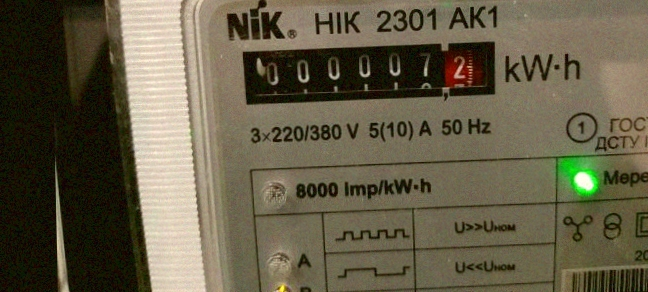0: (324, 53, 342, 81), (294, 56, 311, 84), (263, 59, 280, 86), (386, 49, 402, 77), (356, 51, 371, 78)
2: (451, 52, 467, 81)
7: (416, 50, 432, 79)
screen: (233, 32, 508, 110)
